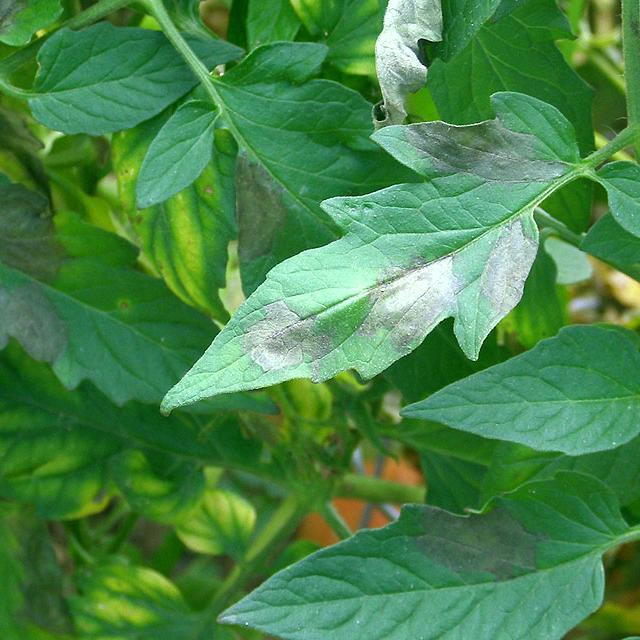Tomato leaf late blight: (166, 116, 598, 398), (206, 490, 640, 640), (0, 158, 241, 402), (0, 0, 102, 58)
